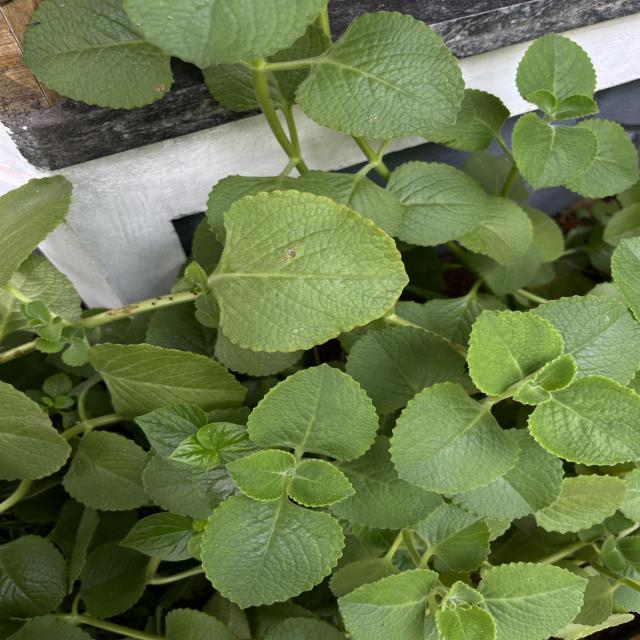Plectranthus barbatus: (212, 188, 412, 354), (293, 8, 466, 142), (19, 2, 188, 111), (198, 492, 346, 612), (387, 378, 523, 496), (245, 360, 382, 462), (84, 341, 249, 416), (525, 374, 640, 464), (464, 305, 564, 398), (389, 158, 489, 249), (479, 559, 590, 640), (333, 566, 440, 640), (61, 428, 154, 512), (511, 110, 599, 192), (454, 194, 534, 270), (514, 30, 598, 101), (224, 447, 299, 502), (282, 457, 358, 508)
